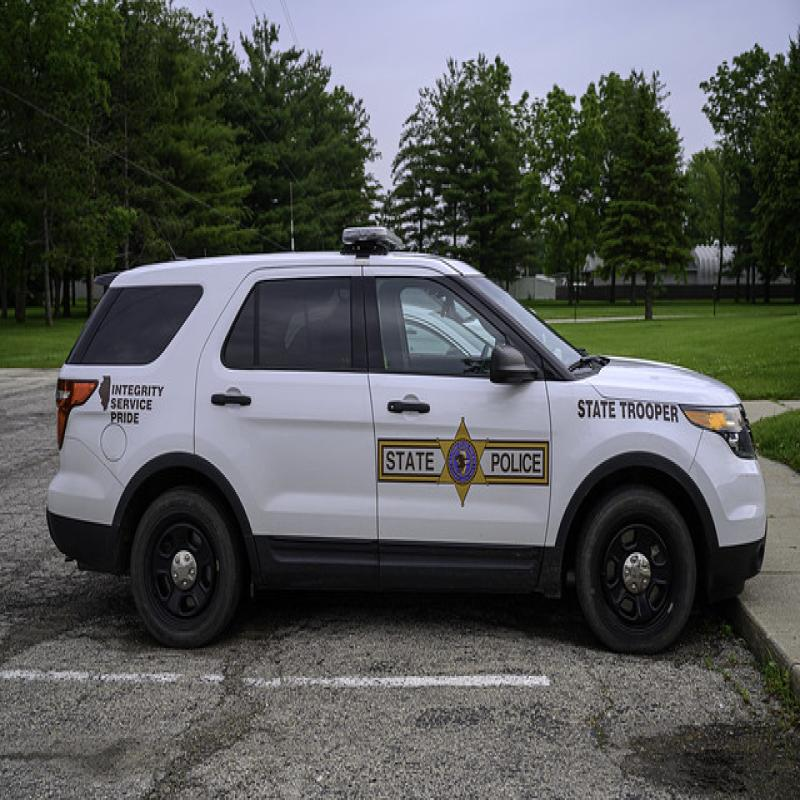AmbulanceSiren: (336, 188, 406, 283)
